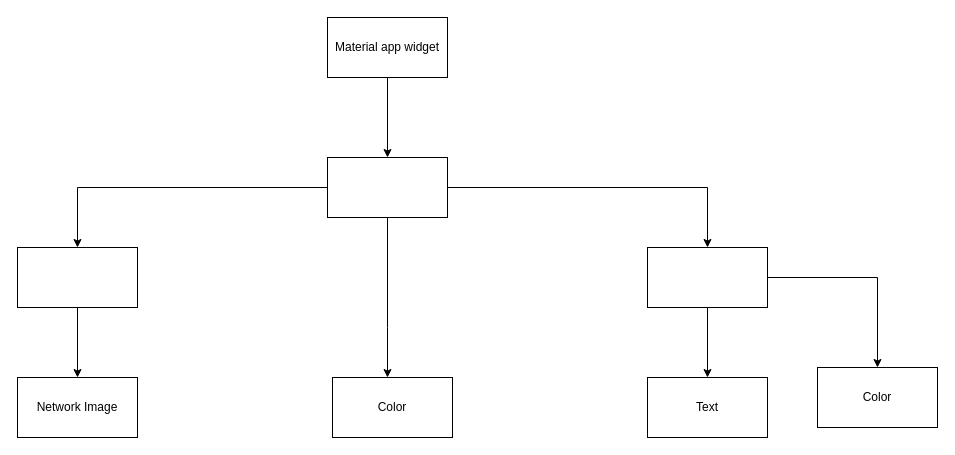
Some shapes in this 955 by 455 pixel diagram are drawn without their labels. Here are the shapes that lost their labels. From the top down, the centre of each, then its label:
At (387,187): "Scaffold Widget".
At (77,277): "Center".
At (707,277): "App bar Widget".
